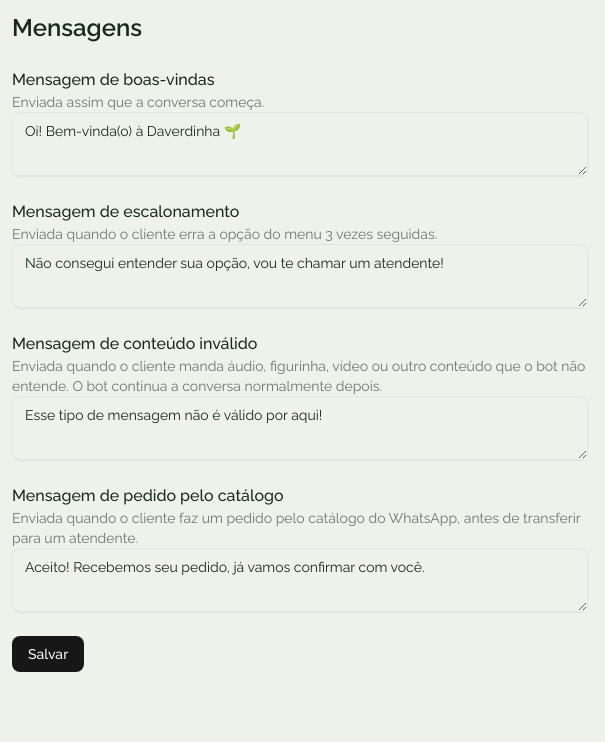
Scenario: MensagensPage › shows an error message when saving fails
Check: the text box showing "Oi! Bem-vinda(o) à Daverdinha 🌱" is shown, box [12,112,588,176]
Click the button "Salvar" at (48, 654), box [12,636,84,672]
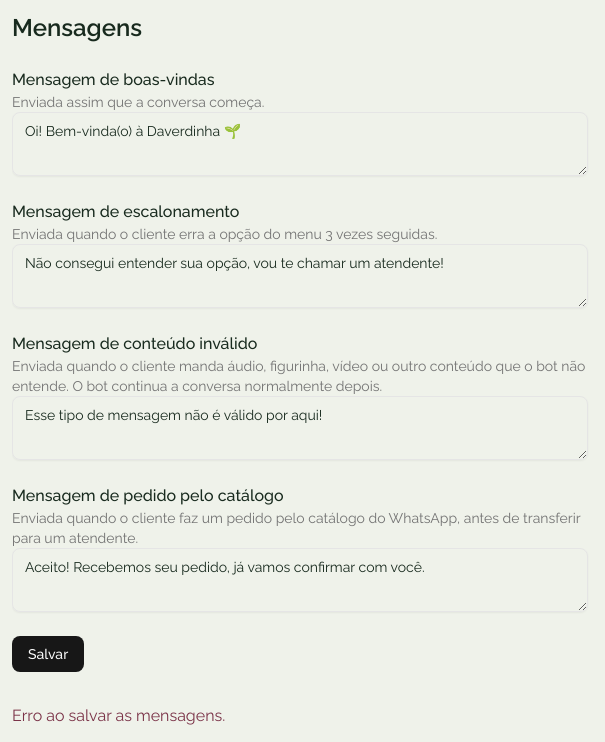
Check: the text "Erro ao salvar as mensagens." is shown, box [12,706,225,725]
